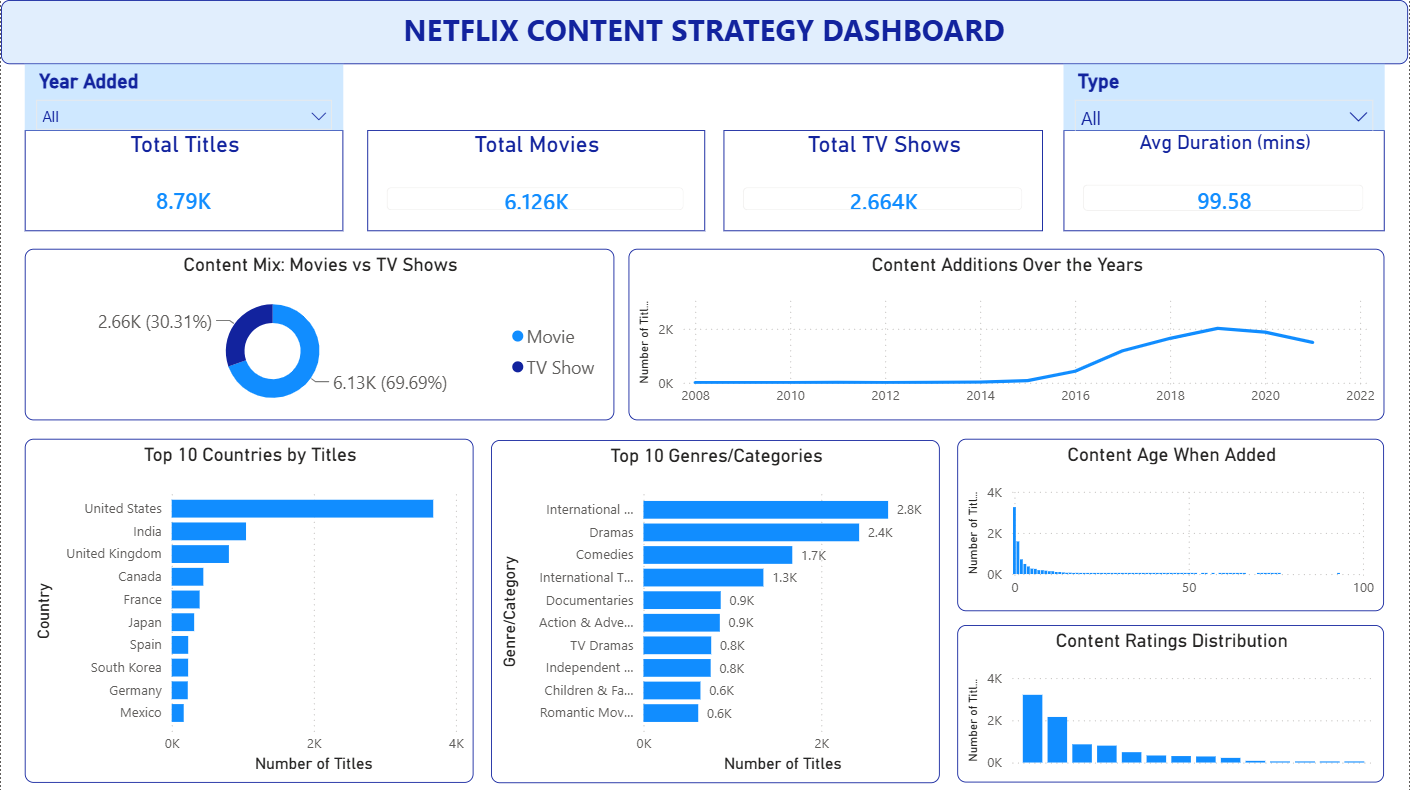

The page's visual inventory and layout, read from the dashboard file:
{"tool":"powerbi","page":{"name":"Page 1","canvas":[1280,720],"ordinal":0},"visuals":[{"type":"cardVisual","title":"Total Titles","fields":{"Data":["CountNonNull(Sheet1.show_id)"]},"box":[22.1,118.6,289.5,91.9],"z":0},{"type":"cardVisual","title":"Total Movies","fields":{"Data":["CountNonNull(Sheet1.type)"]},"box":[332.6,118.6,307,91.9],"z":1000},{"type":"cardVisual","title":"Total TV Shows","fields":{"Data":["CountNonNull(Sheet1.type)"]},"box":[657,118.6,290.7,91.9],"z":2000},{"type":"cardVisual","title":"Avg Duration (mins)","fields":{"Data":["Avg(Sheet1.duration_value)"]},"box":[966.3,118.6,291.9,91.9],"z":3000},{"type":"donutChart","title":"Content Mix: Movies vs TV Shows","fields":{"Category":["Sheet1.type"],"Y":["CountNonNull(Sheet1.show_id)"]},"box":[22.1,225.6,536,155.8],"z":4000},{"type":"lineChart","title":"Content Additions Over the Years","fields":{"Category":["Sheet1.year_added"],"Y":["CountNonNull(Sheet1.show_id)"]},"box":[570.9,225.6,687.2,155.8],"z":5000},{"type":"clusteredBarChart","title":"Top 10 Countries by Titles","fields":{"Category":["Countries.Country"],"Y":["CountNonNull(Countries.Country)"]},"box":[22.1,398.8,408.1,312.8],"z":6000},{"type":"clusteredBarChart","title":"Top 10 Genres/Categories","fields":{"Category":["Genres.Genre"],"Y":["CountNonNull(Genres.Genre)"]},"box":[445.4,400,408.1,311.6],"z":7000},{"type":"clusteredColumnChart","title":"Content Ratings Distribution","fields":{"Category":["Sheet1.rating"],"Y":["CountNonNull(Sheet1.show_id)"]},"box":[869.8,568.6,388.4,143],"z":8000},{"type":"clusteredColumnChart","title":"Content Age When Added","fields":{"Category":["Sheet1.content_age_when_added"],"Y":["CountNonNull(Sheet1.show_id)"]},"box":[869.8,398.8,388.4,157],"z":9000},{"type":"textbox","box":[0,0,1279.1,58.1],"z":10000},{"type":"slicer","title":"Type","fields":{"Values":["Sheet1.year_added"]},"box":[22.1,58.1,289.5,60.5],"z":11000},{"type":"slicer","fields":{"Values":["Sheet1.type"]},"box":[966.3,58.1,291.9,60.5],"z":12000}]}

Visuals, with their boxes in screenshot pixels (x1, y1, x2, y2), scaled from the page's 1280x720 canvas onto the 1410x790 screenshot:
"Total Titles" cardVisual: detection(24, 130, 343, 231)
"Total Movies" cardVisual: detection(366, 130, 705, 231)
"Total TV Shows" cardVisual: detection(724, 130, 1044, 231)
"Avg Duration (mins)" cardVisual: detection(1064, 130, 1386, 231)
"Content Mix: Movies vs TV Shows" donutChart: detection(24, 248, 615, 418)
"Content Additions Over the Years" lineChart: detection(629, 248, 1386, 418)
"Top 10 Countries by Titles" clusteredBarChart: detection(24, 438, 474, 781)
"Top 10 Genres/Categories" clusteredBarChart: detection(491, 439, 940, 781)
"Content Ratings Distribution" clusteredColumnChart: detection(958, 624, 1386, 781)
"Content Age When Added" clusteredColumnChart: detection(958, 438, 1386, 610)
textbox: detection(0, 0, 1409, 64)
"Type" slicer: detection(24, 64, 343, 130)
slicer - Sheet1.type: detection(1064, 64, 1386, 130)
